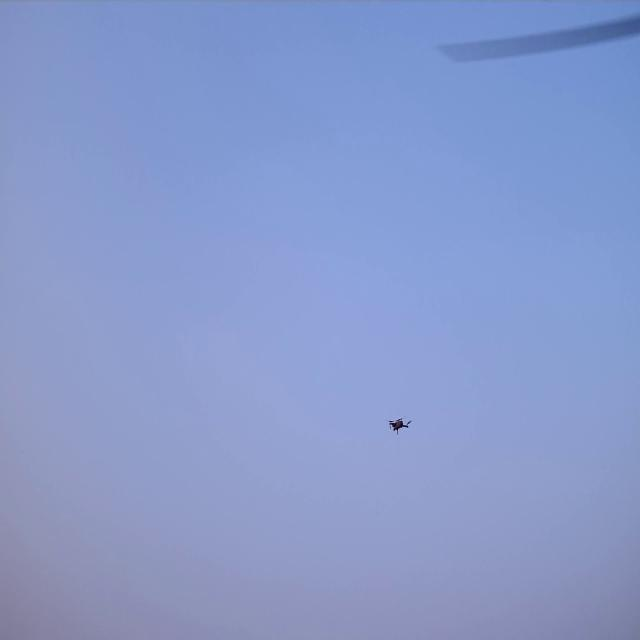UAV: (390, 418, 410, 431)
